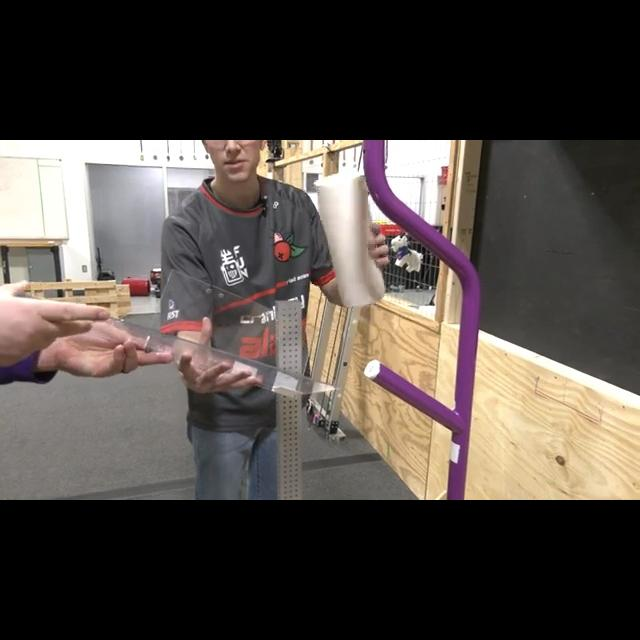CORAL: (314, 169, 386, 307)
